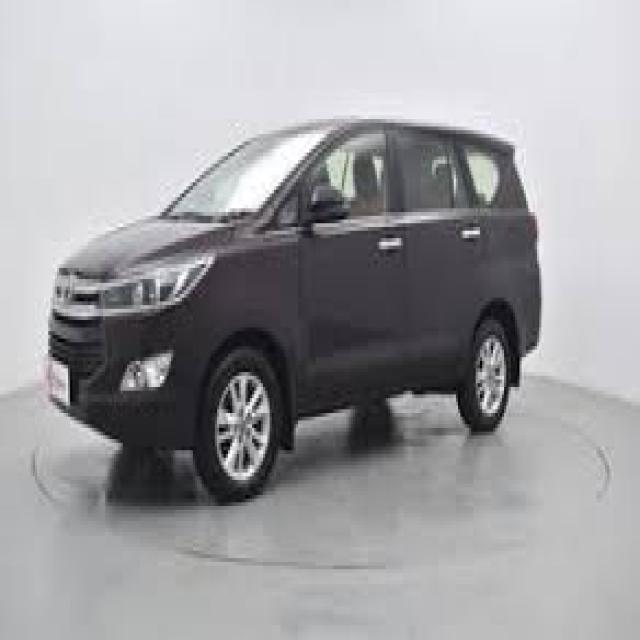light_vehicle: (49, 117, 542, 504)
